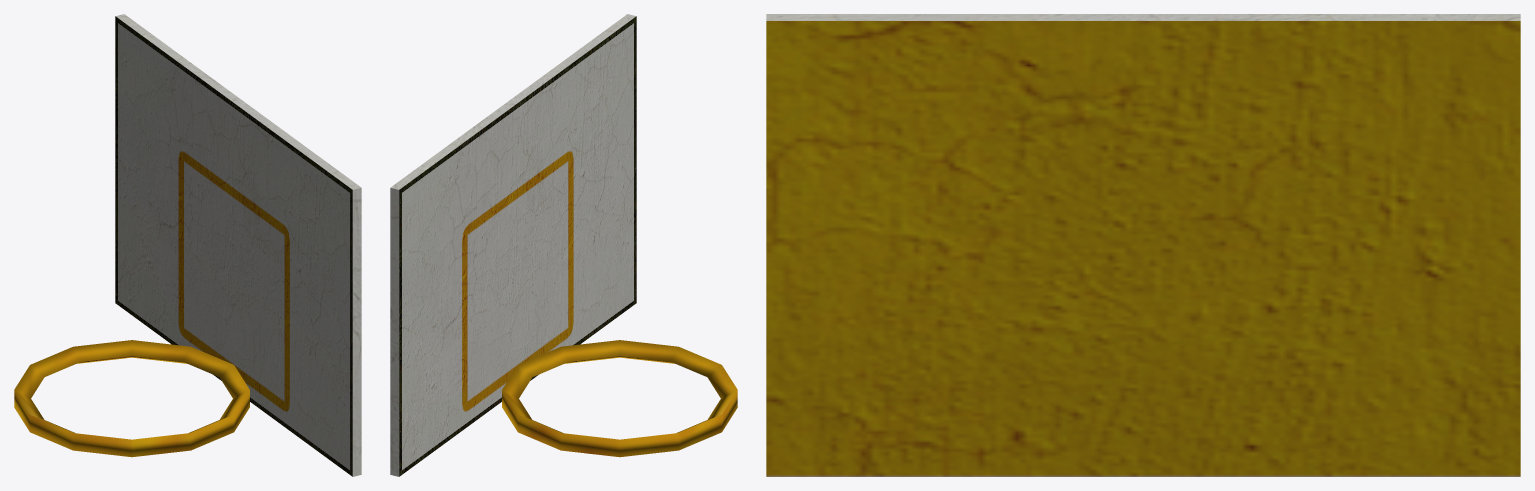
Rendered from BasketCatch.fbx.
3 renders of one model, left to right at view 1: azimuth 30°, elevation 25°; view 2: azimuth 150°, elevation 25°; view 3: azimuth 270°, elevation 25°, orthographic. The views are drawn at different scales.
Parts seen in each view (by area): view 1: BasketCatch; view 2: BasketCatch; view 3: BasketCatch.
Part boxes in pixels (left/top/right/bottom): BasketCatch: left=14, top=14, right=361, bottom=476; BasketCatch: left=390, top=14, right=737, bottom=476; BasketCatch: left=766, top=14, right=1520, bottom=476.
Size of the model in its own units: 0.6179 by 0.7953 by 1.19.
